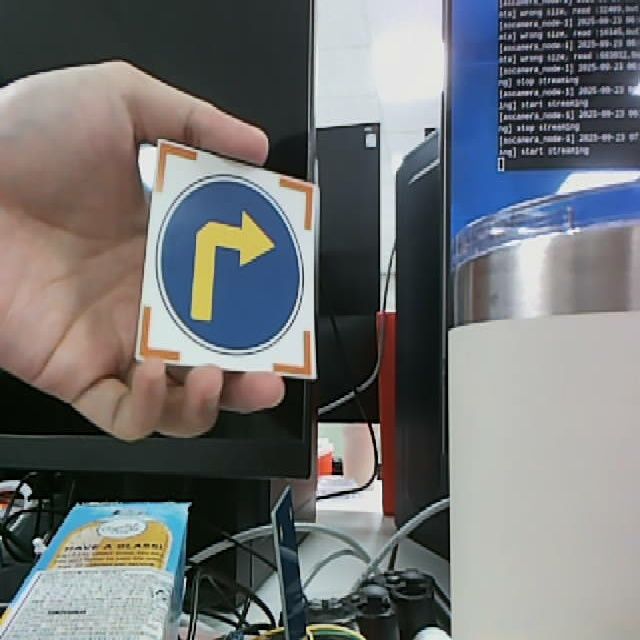strait: (131, 139, 321, 382)
